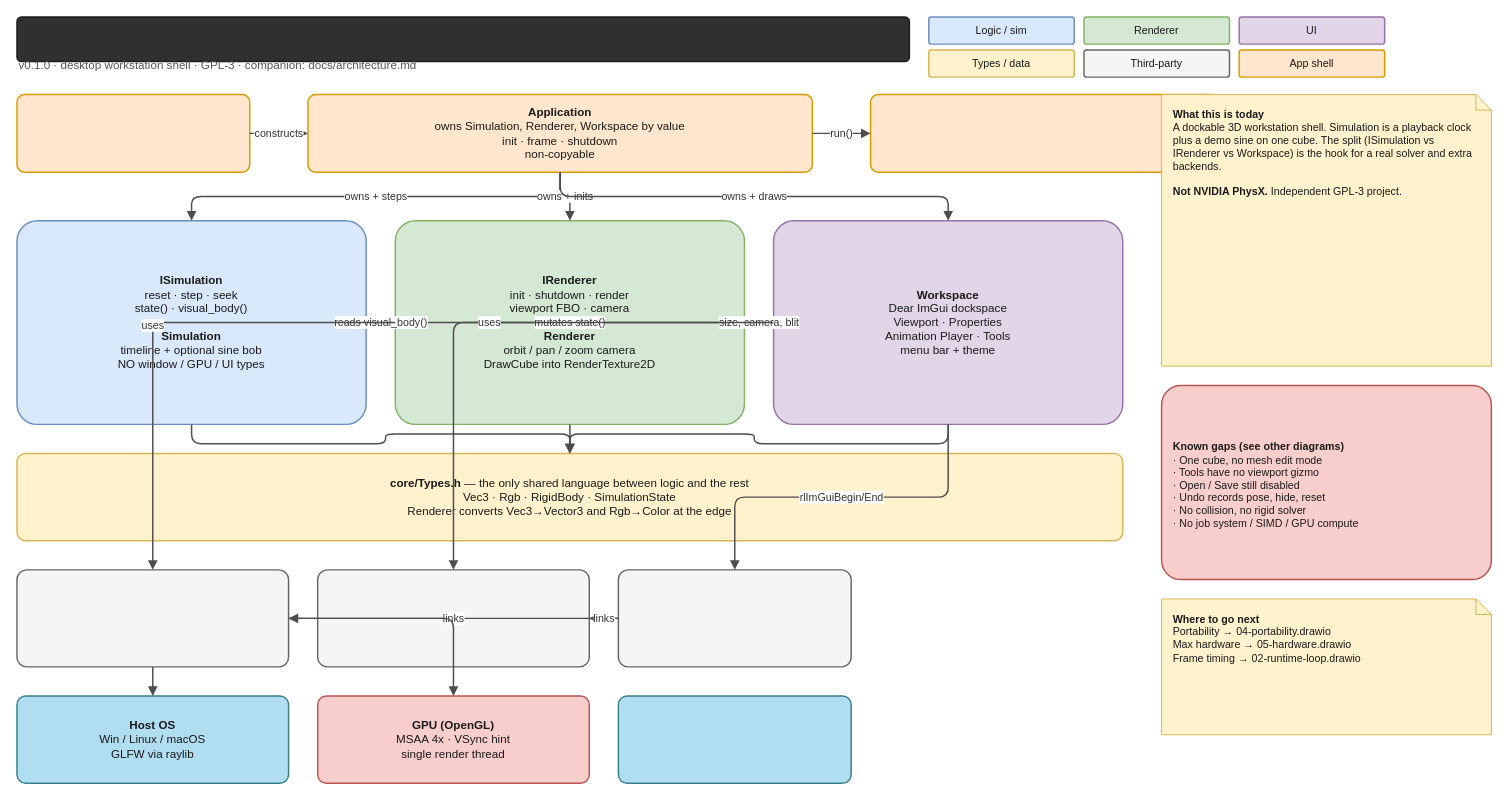
Image size: 1509x801. Some labels were removed from this diagram. The shapes that lost their labels are listed below. From the top down, each one's box as (x1, y1, x2, y2) in pixels, then its label:
(16, 16, 910, 62): Open PhysX — system overview (implemented now)
(16, 93, 250, 172): main.cpp openphysx::Application app; return app.run();
(869, 93, 1220, 172): run() while !WindowShouldClose and !quit_requested → frame()
(16, 569, 289, 667): raylib 6.0 window, GL, input, 3D primitives, FBO
(317, 569, 590, 667): Dear ImGui vendored in external/imgui docking + keyboard nav
(617, 569, 851, 667): rlImGui ImGui ↔ raylib backend tag Raylib_6_0
(617, 695, 851, 784): CPU today one thread does UI + sim + submit fixed 1/60 s step
